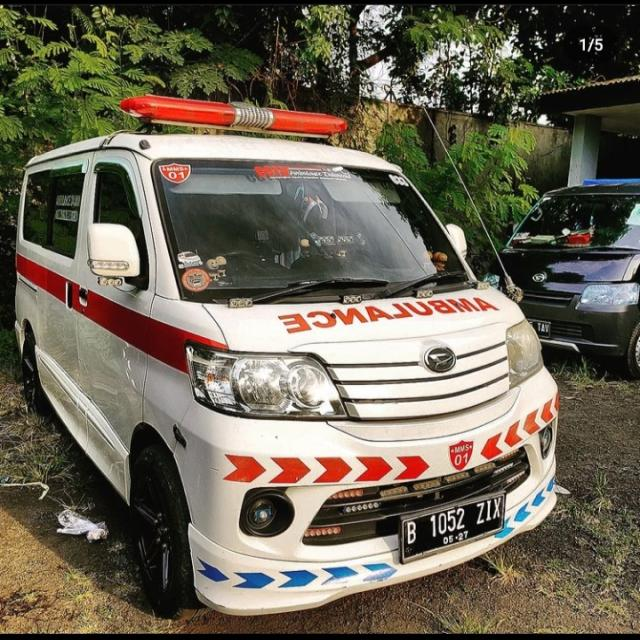emergency-vehicle: (14, 99, 564, 614)
